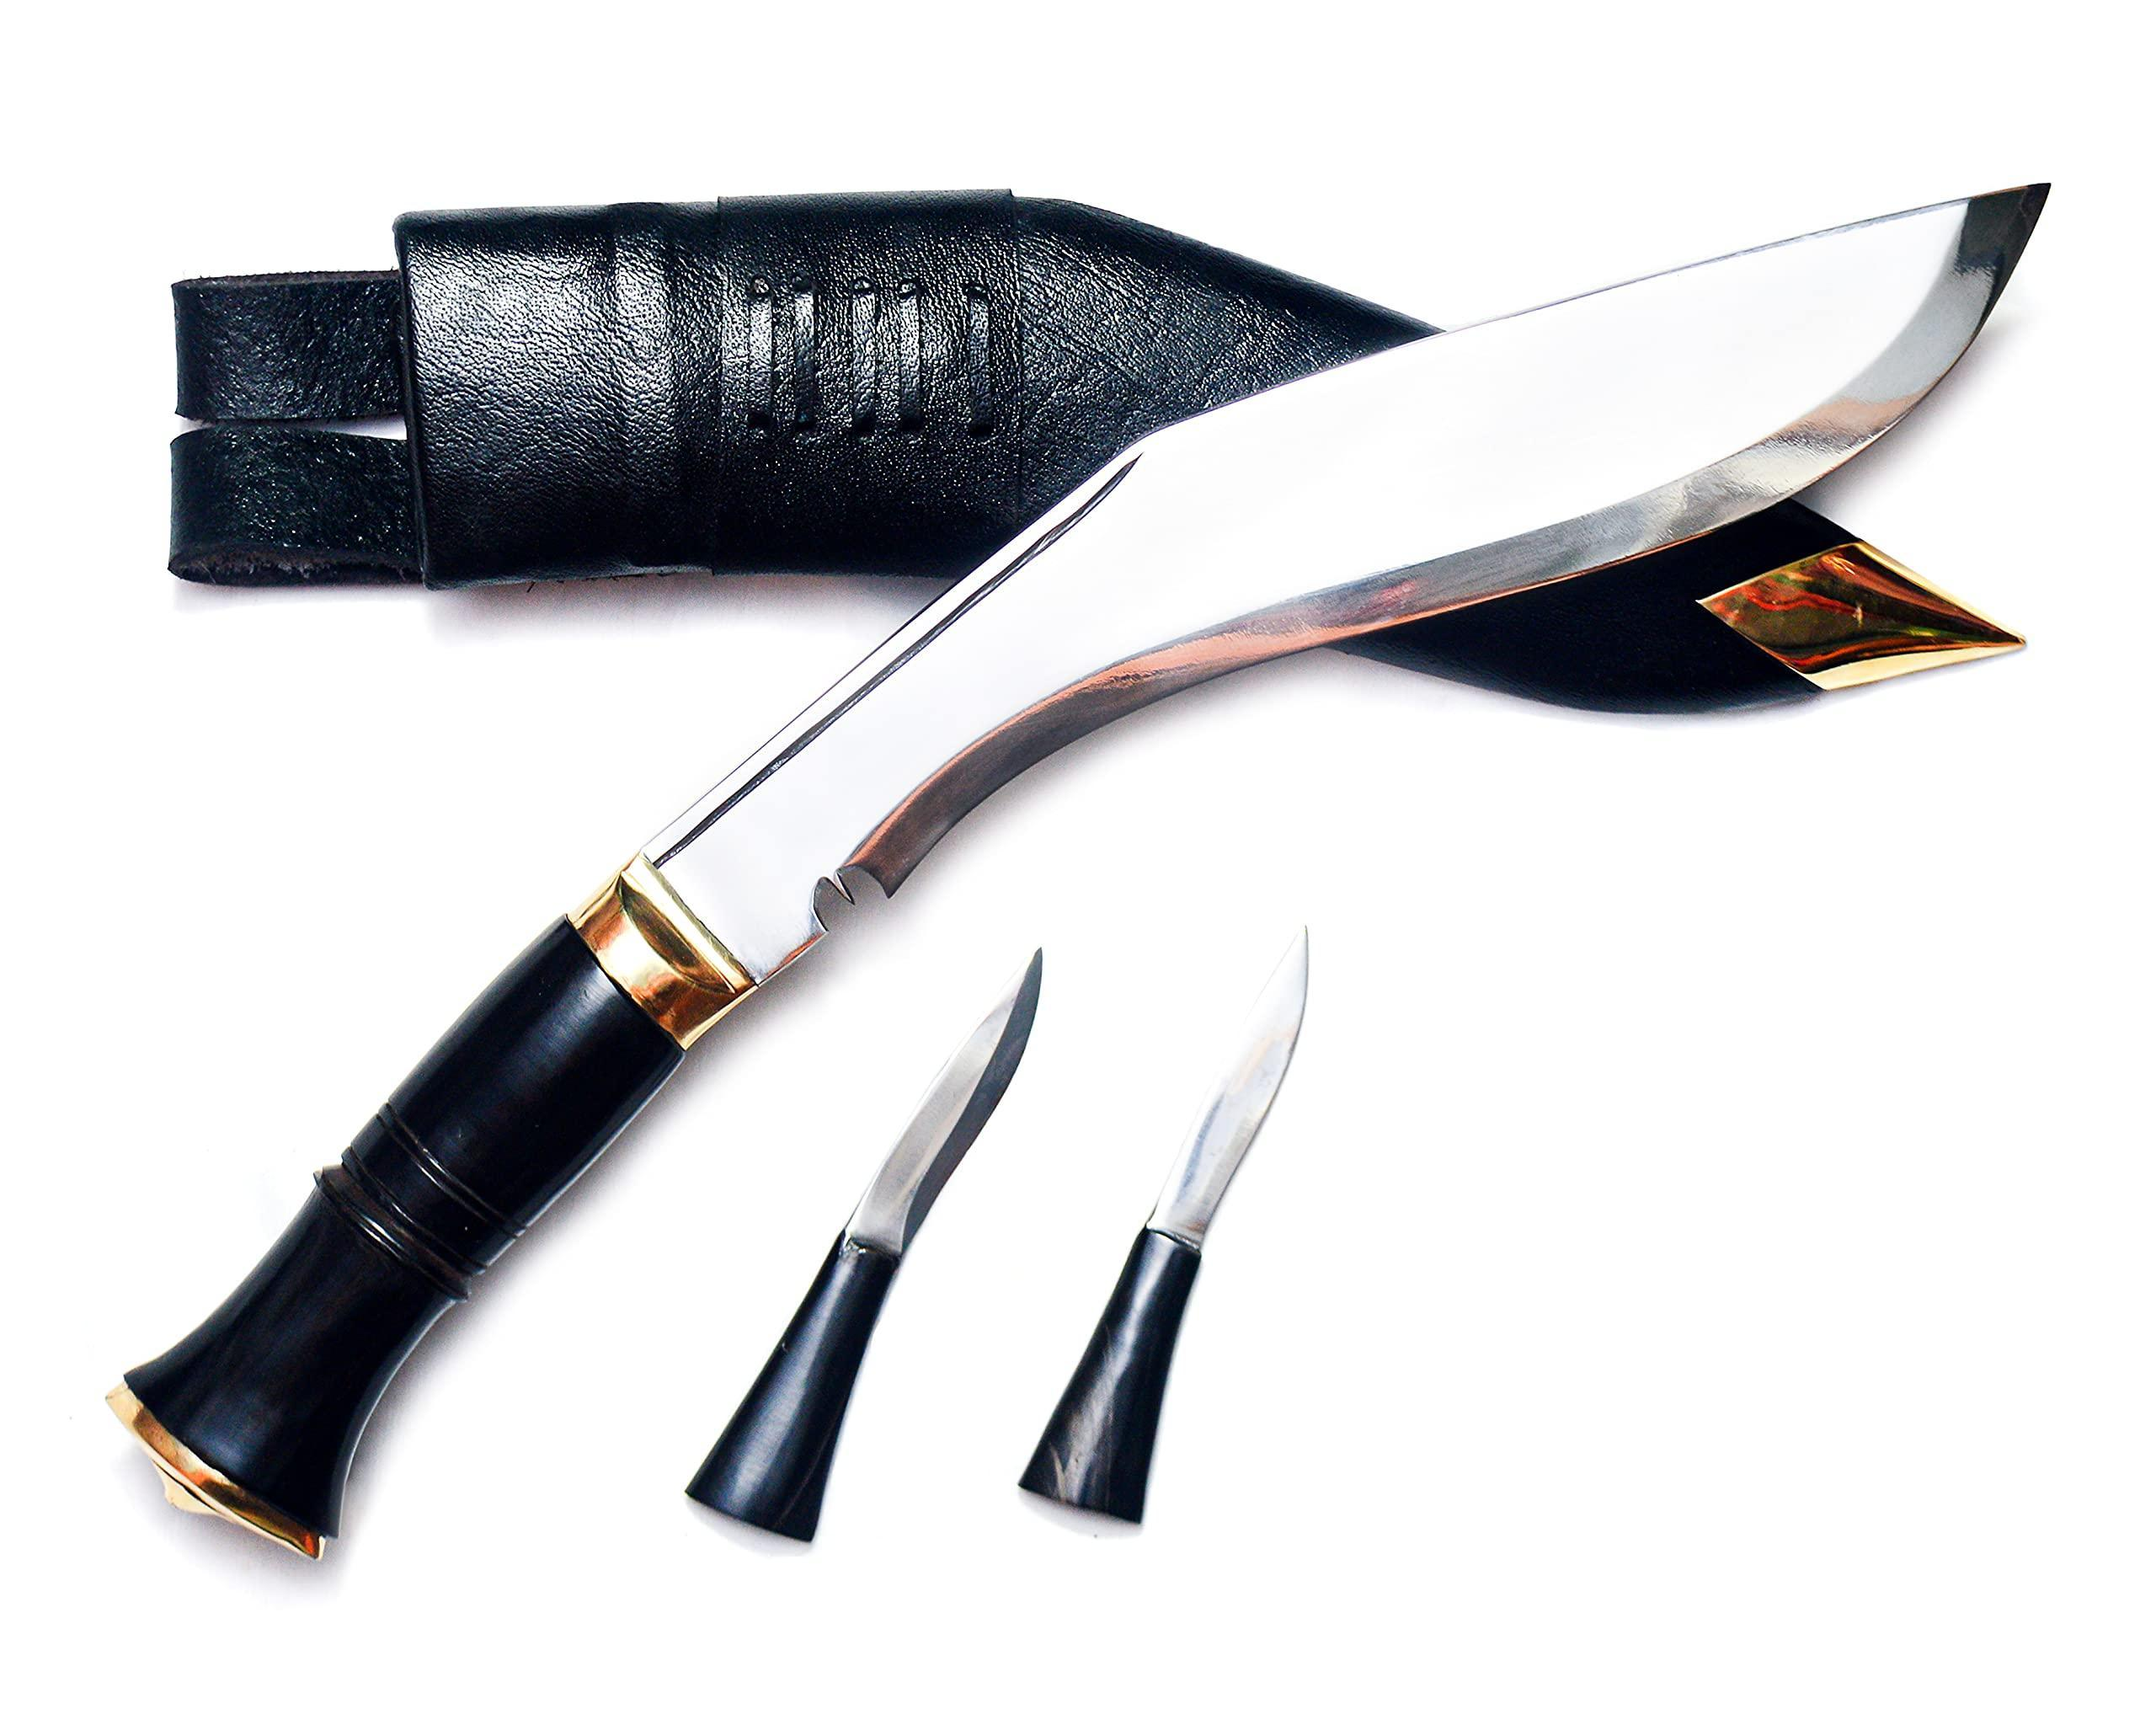faca: (688, 949, 1042, 1540), (1019, 926, 1308, 1523)
facao: (107, 187, 2045, 1554)
